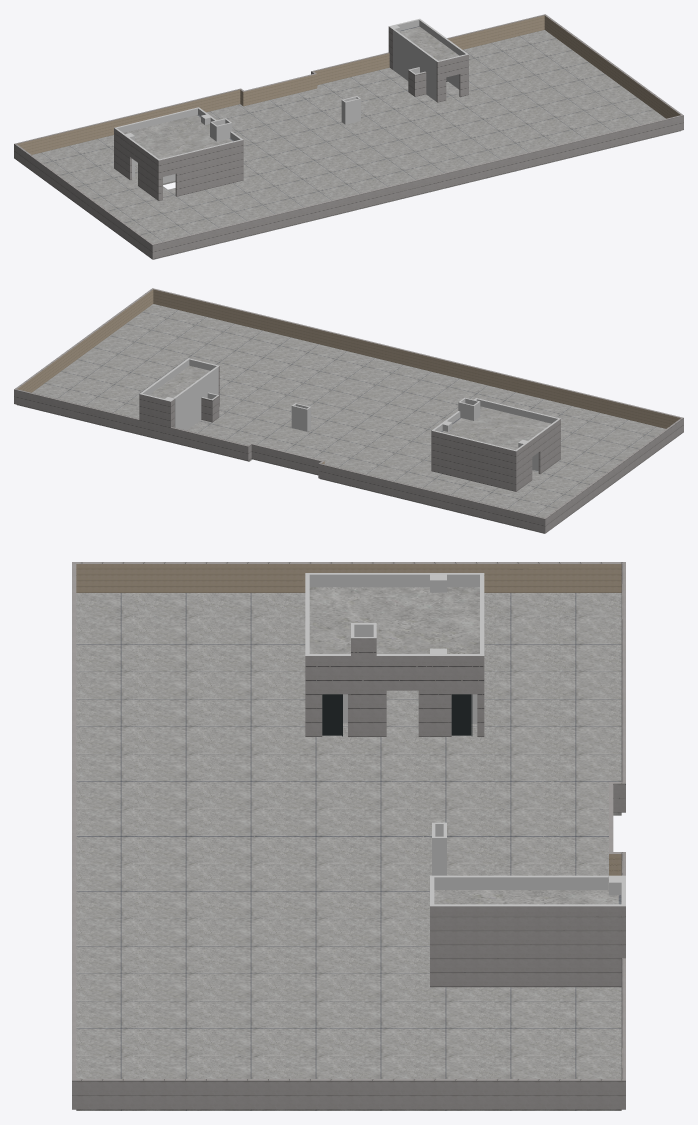
The picture shows the model from 3 angles, top to bottom: view 1: azimuth 30°, elevation 25°; view 2: azimuth 150°, elevation 25°; view 3: azimuth 270°, elevation 25°; orthographic projection. The views are drawn at different scales.
Parts seen in each view (by area): view 1: LC_DF_diban, LC_DF_qiang; view 2: LC_DF_diban, LC_DF_qiang; view 3: LC_DF_diban, LC_DF_qiang, M_DF_putongmen.
Boxes of the visible parts, box(x1,y1,x2,y2) form: LC_DF_diban: box(32, 26, 680, 259); LC_DF_qiang: box(14, 14, 683, 259); LC_DF_diban: box(17, 304, 665, 533); LC_DF_qiang: box(14, 288, 683, 533); LC_DF_diban: box(76, 587, 621, 1110); LC_DF_qiang: box(72, 562, 625, 1109); M_DF_putongmen: box(322, 694, 472, 736).
Bounding box in the file's own units: 57600 × 5250 × 26000.
Materials: 5 (3 with a texture image).
